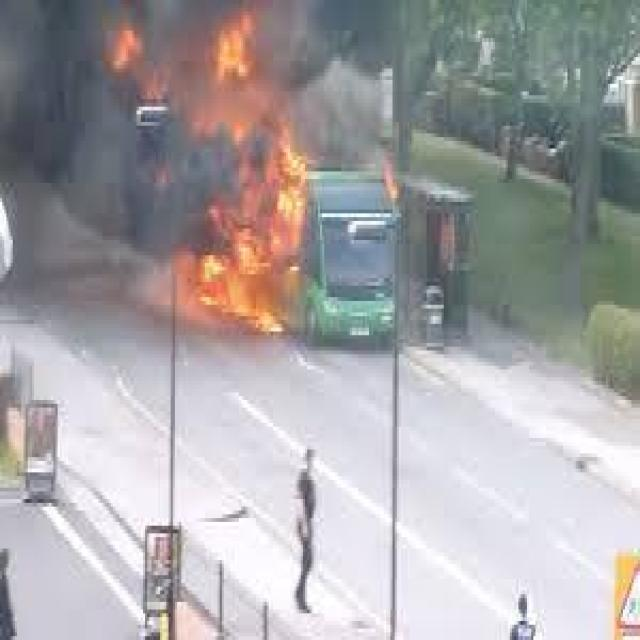fire: (98, 11, 344, 346)
smoke: (1, 7, 142, 236), (300, 15, 396, 147)
